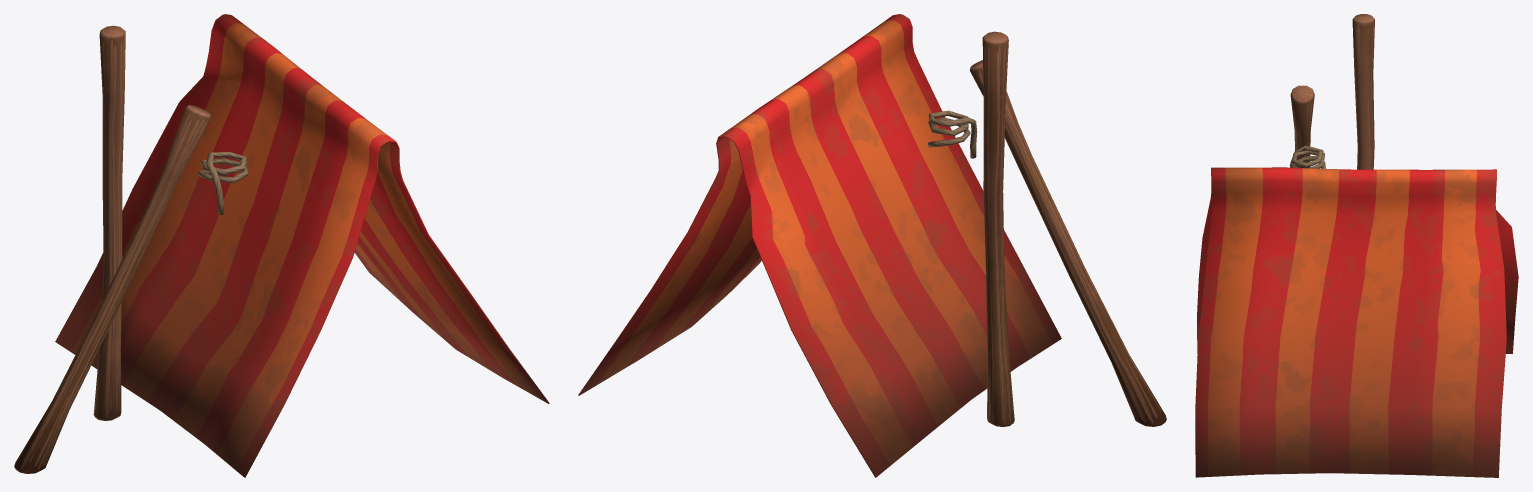
Rendered from tent_parts.fbx.
3 views of the same model, side by side, from view 1: azimuth 30°, elevation 25°; view 2: azimuth 150°, elevation 25°; view 3: azimuth 270°, elevation 25° (orthographic). The views are drawn at different scales.
Parts seen in each view (by area): view 1: cover_cloth, pole_1, pole_2, rope; view 2: cover_cloth, pole_2, pole_1, rope; view 3: cover_cloth, pole_2, pole_1, rope.
Part boxes in pixels (x1,y1,x2,y2): cover_cloth: (55,14,549,477); pole_1: (14,105,211,473); pole_2: (93,25,125,420); rope: (198,151,248,214); cover_cloth: (578,14,1061,477); pole_2: (982,31,1014,426); pole_1: (970,60,1166,426); rope: (927,110,977,158); cover_cloth: (1195,167,1518,477); pole_2: (1352,14,1374,169); pole_1: (1290,85,1314,168); rope: (1289,145,1325,168).
Size of the model in its own units: 4.48 by 3.51 by 3.17.
